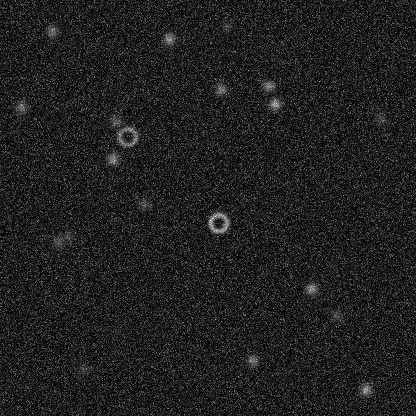Ring: (115, 124, 139, 148), (206, 210, 230, 234)
Spot: (60, 228, 76, 244), (43, 23, 59, 39), (136, 196, 152, 212), (104, 151, 120, 167), (50, 233, 66, 249), (219, 18, 235, 34), (357, 381, 373, 397), (260, 77, 276, 93), (107, 112, 123, 128), (13, 99, 29, 115), (244, 352, 260, 368), (75, 360, 91, 376), (266, 95, 282, 111), (160, 30, 176, 46), (303, 280, 319, 296), (372, 110, 388, 126), (328, 306, 344, 322), (212, 81, 228, 97)
